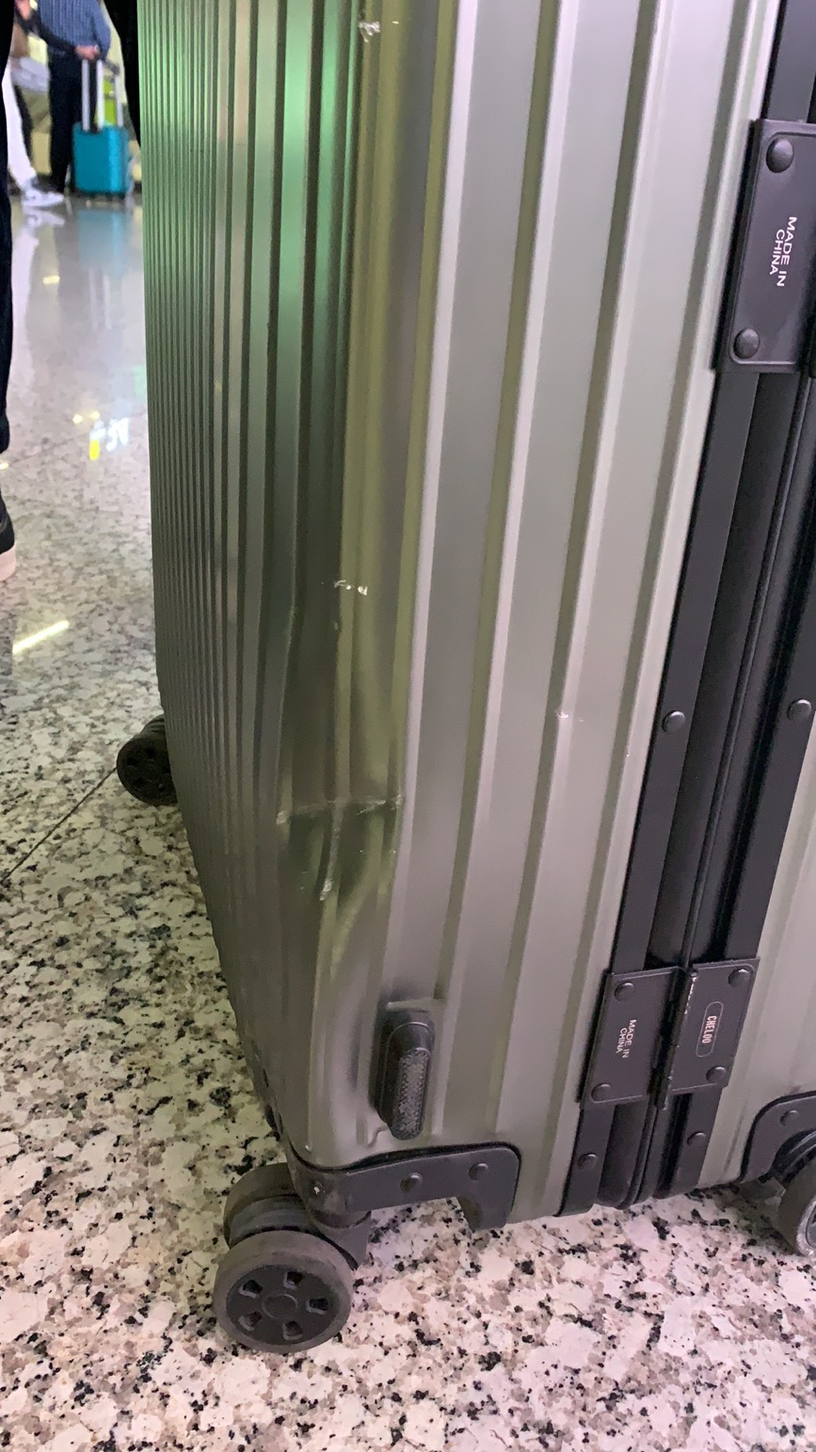rupture: (275, 730, 405, 981), (267, 551, 346, 680)
